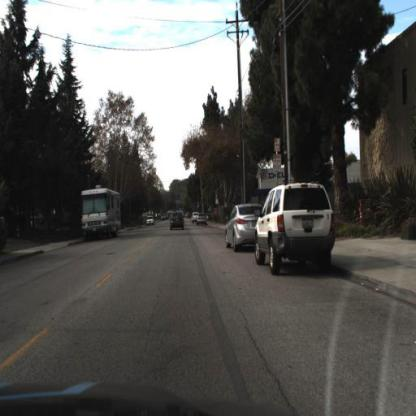car: (254, 180, 338, 278), (224, 201, 264, 254), (167, 208, 189, 234), (197, 211, 210, 229), (145, 214, 157, 228)
truck: (79, 186, 123, 243)
